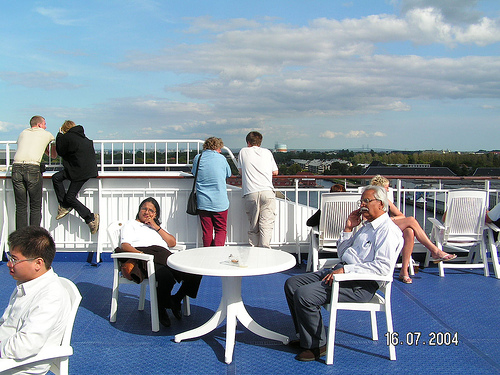without_mask: (3, 232, 49, 284), (357, 186, 389, 220), (135, 199, 161, 226)
